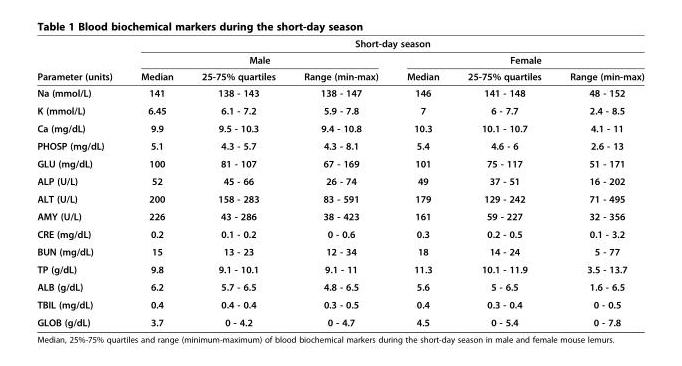table: (36, 37, 643, 327)
table column: (186, 37, 289, 327), (452, 37, 555, 327), (289, 37, 391, 327), (36, 37, 125, 327), (555, 37, 643, 327), (125, 37, 186, 327), (391, 37, 452, 327)
table column header: (36, 37, 643, 84)
table row: (36, 101, 643, 119), (36, 136, 643, 154), (36, 154, 643, 172), (36, 189, 643, 207), (36, 224, 643, 242), (36, 242, 643, 260), (36, 277, 643, 295), (36, 295, 643, 313), (36, 67, 643, 84), (36, 84, 643, 101), (36, 119, 643, 136), (36, 172, 643, 189), (36, 207, 643, 224), (36, 260, 643, 277), (36, 51, 643, 67), (36, 37, 643, 51), (36, 313, 643, 327)
table spanning cell: (125, 37, 643, 51), (125, 51, 391, 67), (36, 37, 125, 84), (391, 51, 643, 67)
